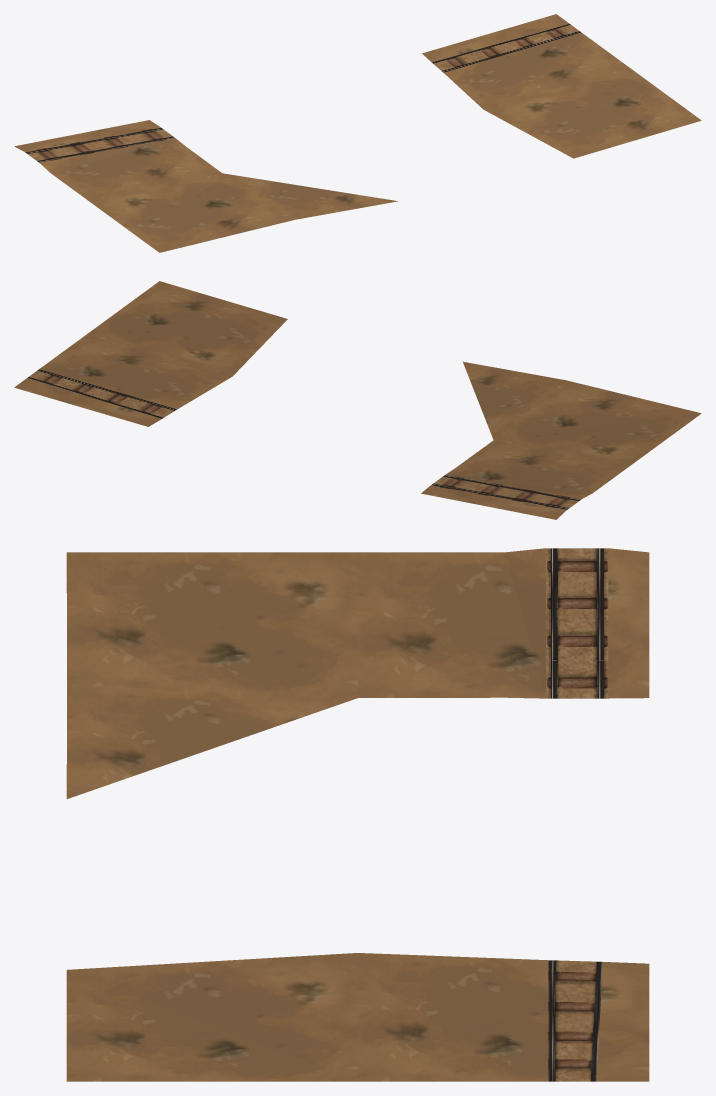
3 views of the same model, one above another, from view 1: azimuth 30°, elevation 25°; view 2: azimuth 150°, elevation 25°; view 3: azimuth 270°, elevation 25° (orthographic). The views are drawn at different scales.
Parts seen in each view (by area): view 1: 2; view 2: 2; view 3: 2.
Boxes of the visible parts, box(x1,y1,x2,y2) form: 2: box(14, 14, 701, 252); 2: box(14, 281, 701, 519); 2: box(66, 548, 649, 1081).
Size of the model in its own units: 9196 by 142 by 4276.
Materials: 2 (2 with a texture image).
